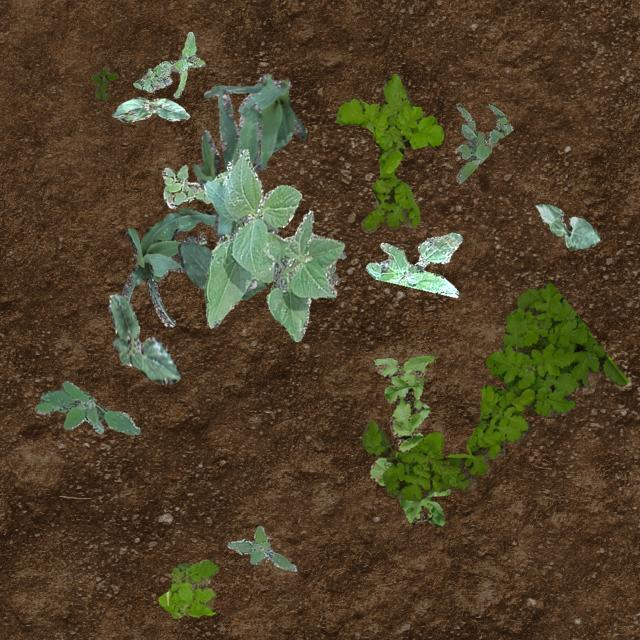crop: (202, 148, 344, 340), (192, 88, 278, 290), (120, 206, 217, 326), (202, 72, 306, 170), (106, 292, 180, 383), (177, 240, 266, 298), (534, 202, 600, 248), (110, 95, 188, 122)
weed: (360, 282, 628, 499), (336, 72, 442, 232), (368, 354, 448, 526), (364, 232, 462, 296), (34, 381, 140, 434), (132, 30, 204, 96), (454, 101, 512, 182), (158, 558, 218, 616), (227, 526, 296, 570), (276, 250, 344, 284), (160, 164, 210, 208), (90, 64, 118, 100)
